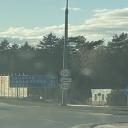speed_limit_100: (54, 81, 77, 91)
speed_limit_120: (58, 68, 75, 78)
